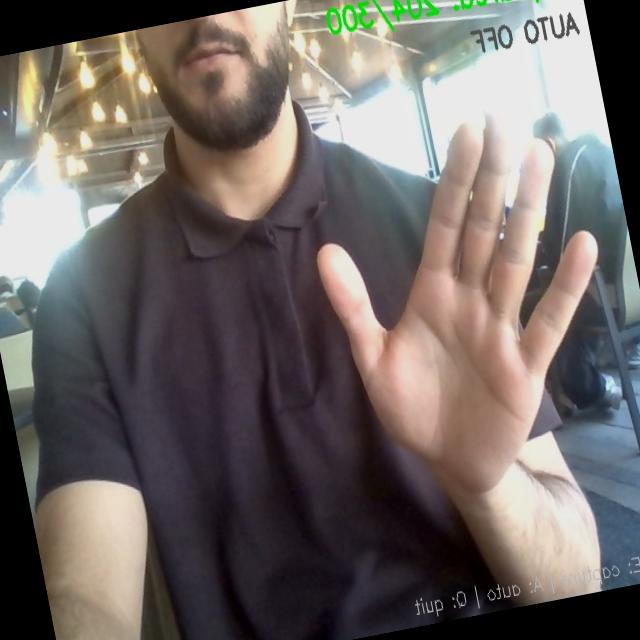Hand: (318, 119, 596, 492)
